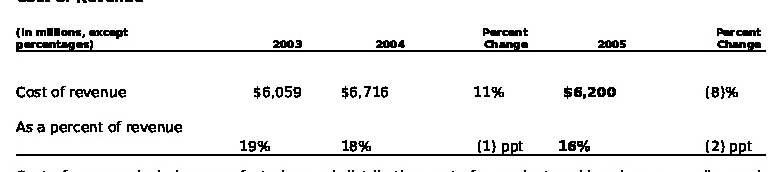table: (0, 0, 777, 172)
